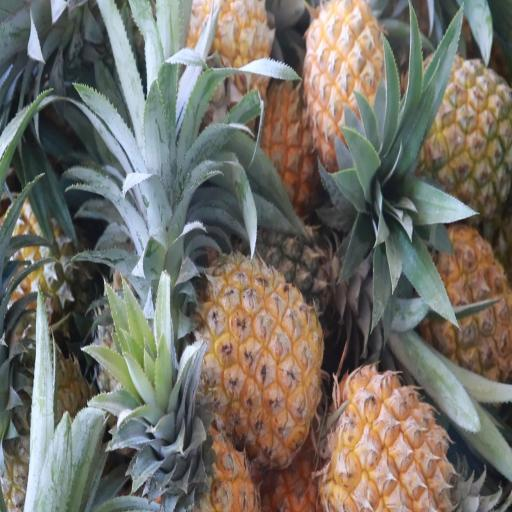Pineapple - v8 v1: (204, 252, 324, 466), (323, 365, 457, 512), (304, 2, 398, 171), (419, 61, 512, 221), (419, 230, 512, 384), (154, 387, 260, 512)
